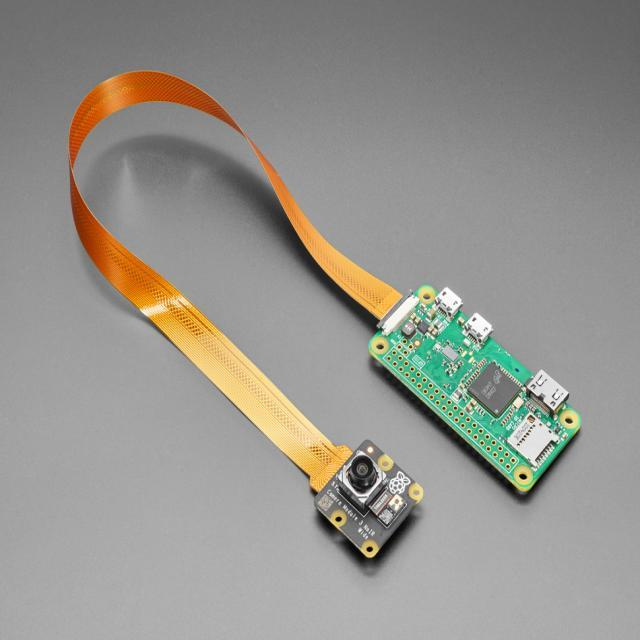hidden camera: (350, 454, 374, 487)
